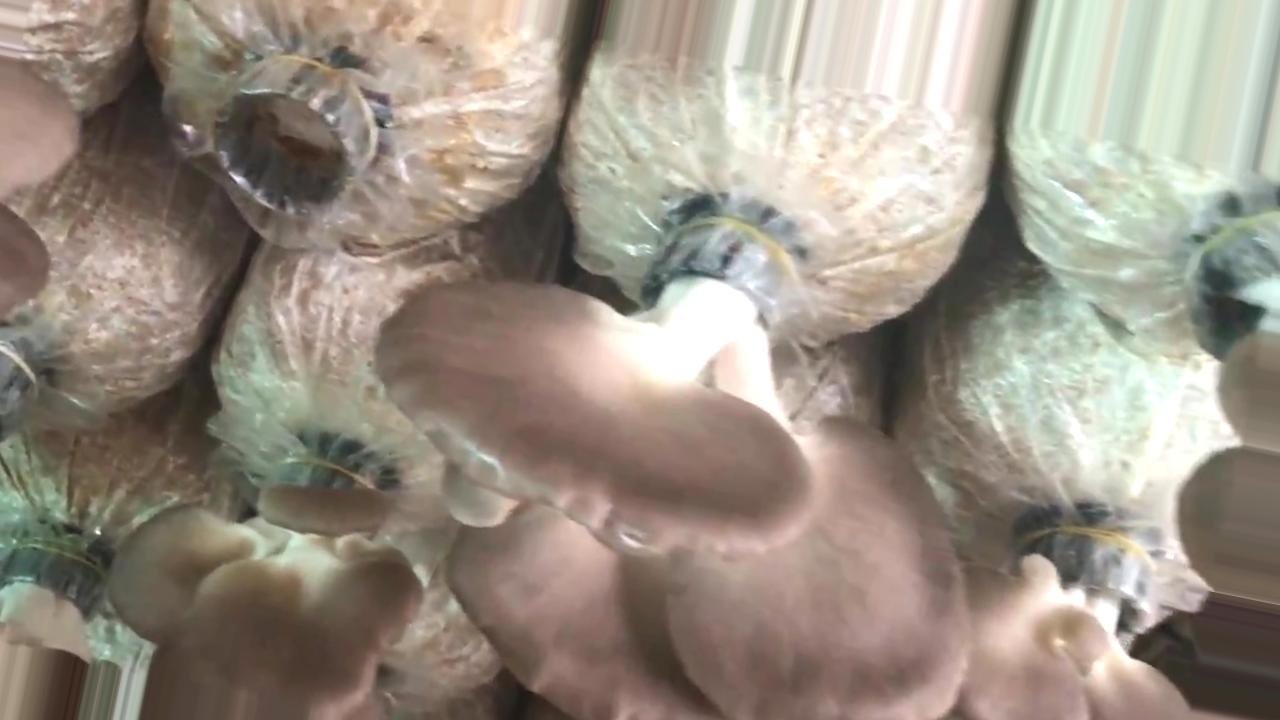nam: (373, 220, 967, 720), (111, 467, 418, 720), (966, 537, 1186, 720), (1180, 220, 1280, 605), (1, 536, 117, 716), (1, 55, 80, 311)
